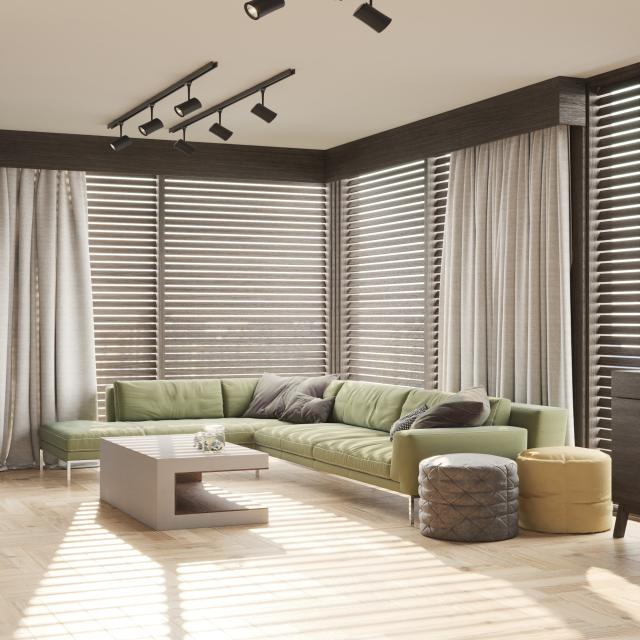floor: (0, 455, 640, 640)
wall: (86, 171, 333, 421), (325, 153, 452, 390), (572, 63, 640, 458), (325, 76, 560, 184), (0, 130, 325, 184), (559, 76, 589, 126)
